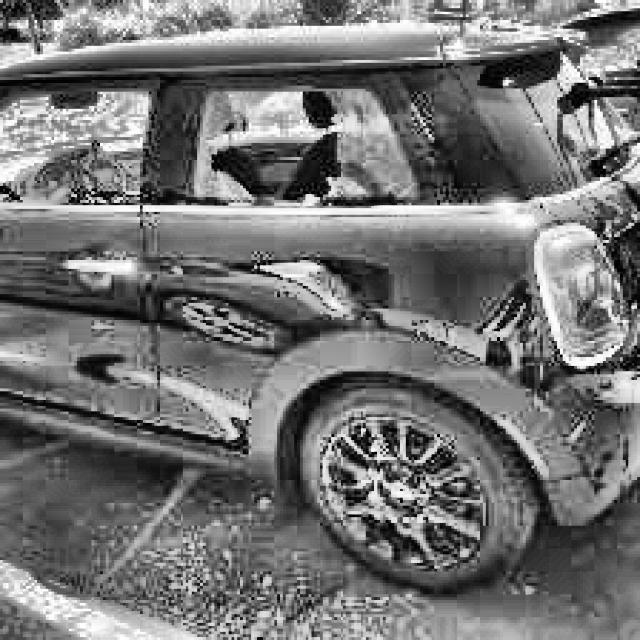glass_shatter: (210, 96, 348, 203)
